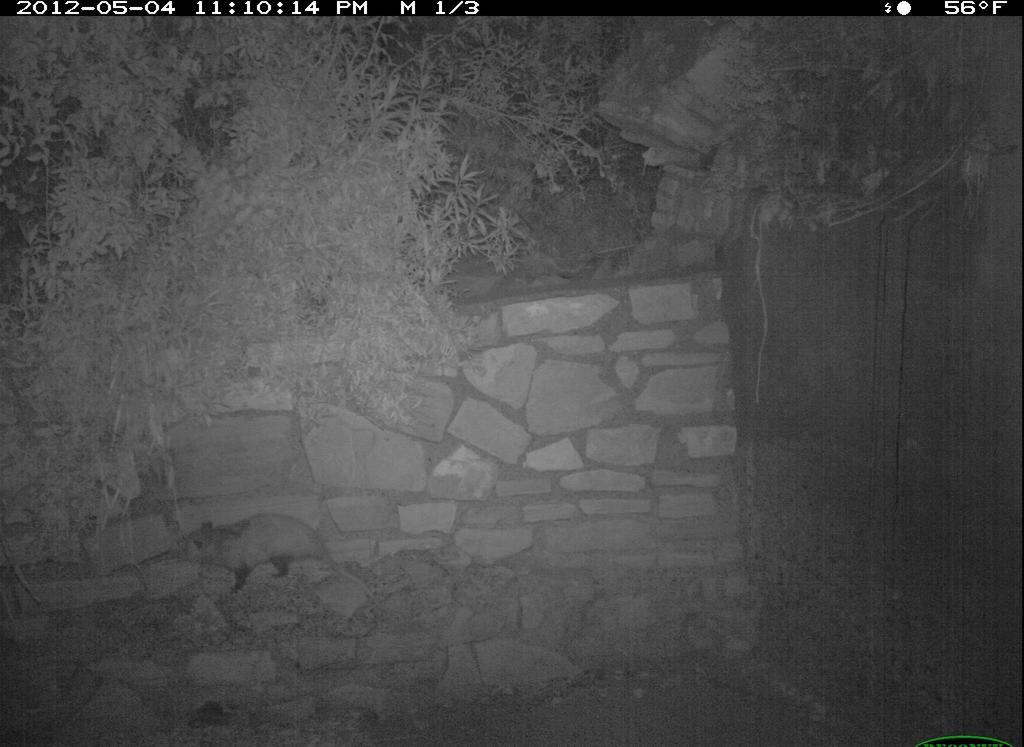opossum: (181, 514, 376, 603)
